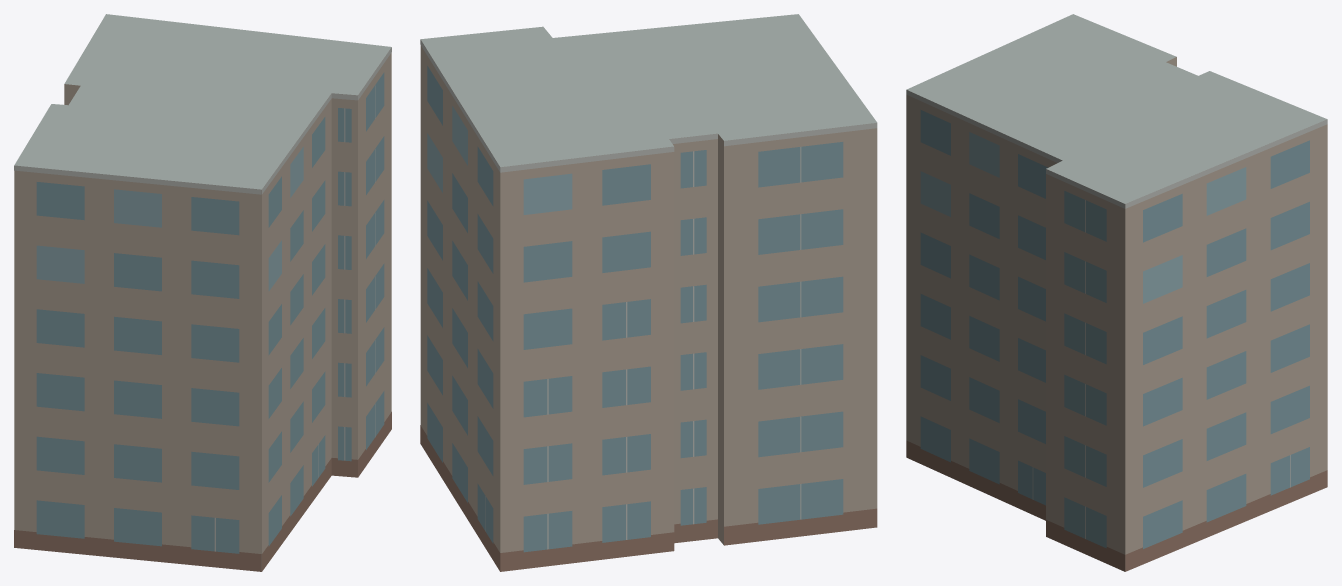
The model's file is survey-upis-32747440.glb.
The picture shows the model from 3 angles, left to right: view 1: azimuth 30°, elevation 25°; view 2: azimuth 150°, elevation 25°; view 3: azimuth 270°, elevation 25°; orthographic projection. The views are drawn at different scales.
Visible parts, largest first — view 1: survey-upis-32747440.tmp; view 2: survey-upis-32747440.tmp; view 3: survey-upis-32747440.tmp.
Part boxes in pixels (x1,y1,x2,y2): survey-upis-32747440.tmp: [14, 14, 391, 571]; survey-upis-32747440.tmp: [420, 14, 877, 571]; survey-upis-32747440.tmp: [906, 14, 1327, 571].
Bounding box in the file's own units: 20.28 × 18.3 × 19.
